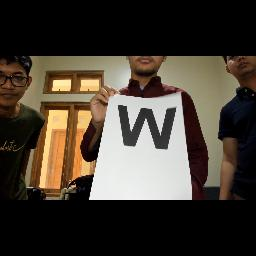w: (112, 100, 184, 158)
